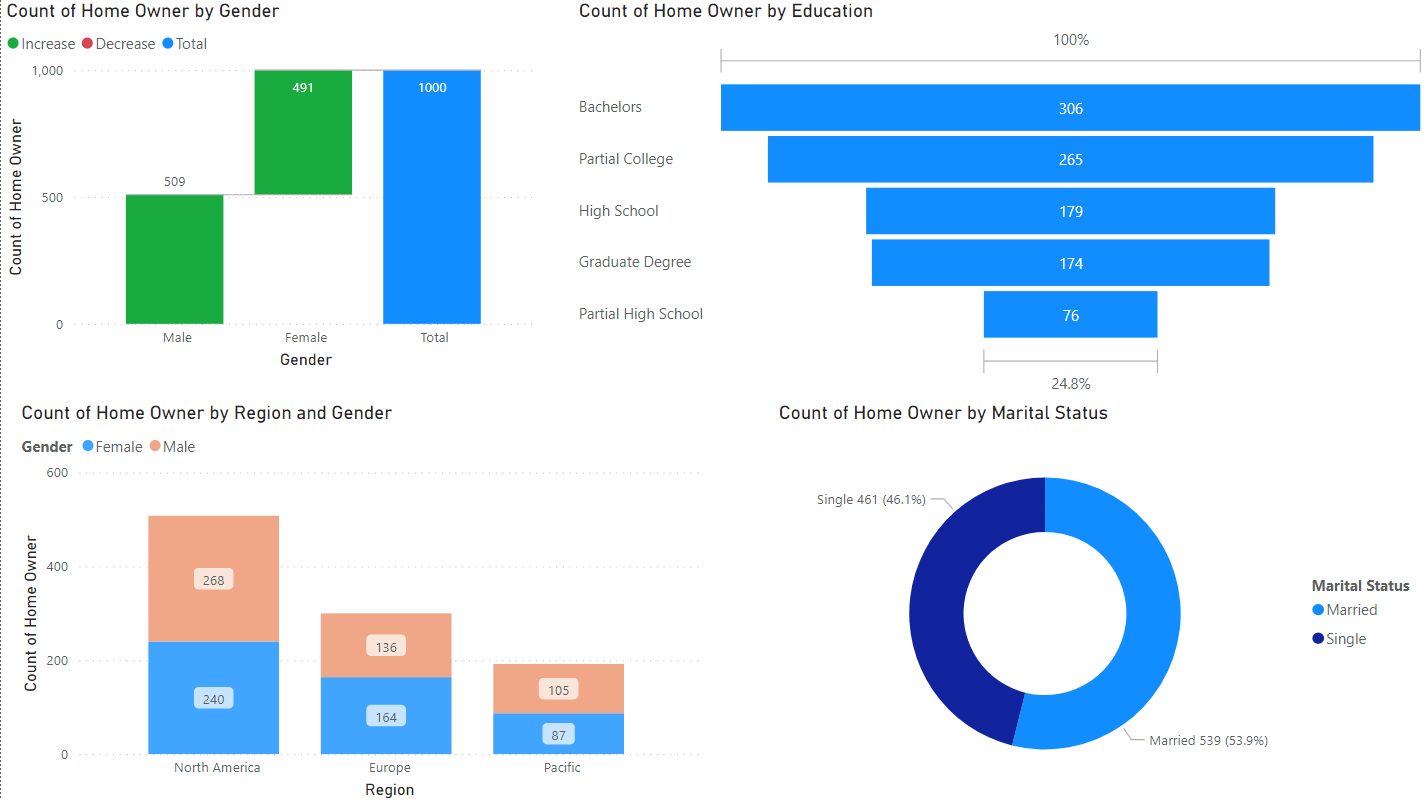

Layout of this report page (visuals, bound fields, positions):
{"tool":"powerbi","page":{"name":"Page 4","canvas":[1280,720],"ordinal":3},"visuals":[{"type":"lineStackedColumnComboChart","fields":{"Category":["bike_buyers.Region"],"Series":["bike_buyers.Gender"],"Y":["CountNonNull(bike_buyers.Home Owner)"]},"box":[13.7,359.8,616.7,359.8],"z":0},{"type":"waterfallChart","fields":{"Category":["bike_buyers.Gender"],"Y":["CountNonNull(bike_buyers.Home Owner)"]},"box":[0,0,484.8,335.1],"z":1000},{"type":"funnel","fields":{"Category":["bike_buyers.Education"],"Y":["CountNonNull(bike_buyers.Home Owner)"]},"box":[512.3,0,767.7,359.8],"z":2000},{"type":"donutChart","fields":{"Category":["bike_buyers.Marital Status"],"Y":["CountNonNull(bike_buyers.Home Owner)"]},"box":[690.8,359.8,589.2,359.8],"z":3000}]}

Visuals, with their boxes in screenshot pixels (x1, y1, x2, y2), scaled from the page's 1280x720 canvas onto the 1427x800 screenshot:
lineStackedColumnComboChart - bike_buyers.Region x bike_buyers.Gender: 15/400/703/799
waterfallChart - bike_buyers.Gender x CountNonNull(bike_buyers.Home Owner): 0/0/540/372
funnel - bike_buyers.Education x CountNonNull(bike_buyers.Home Owner): 571/0/1426/400
donutChart - bike_buyers.Marital Status x CountNonNull(bike_buyers.Home Owner): 770/400/1426/799
